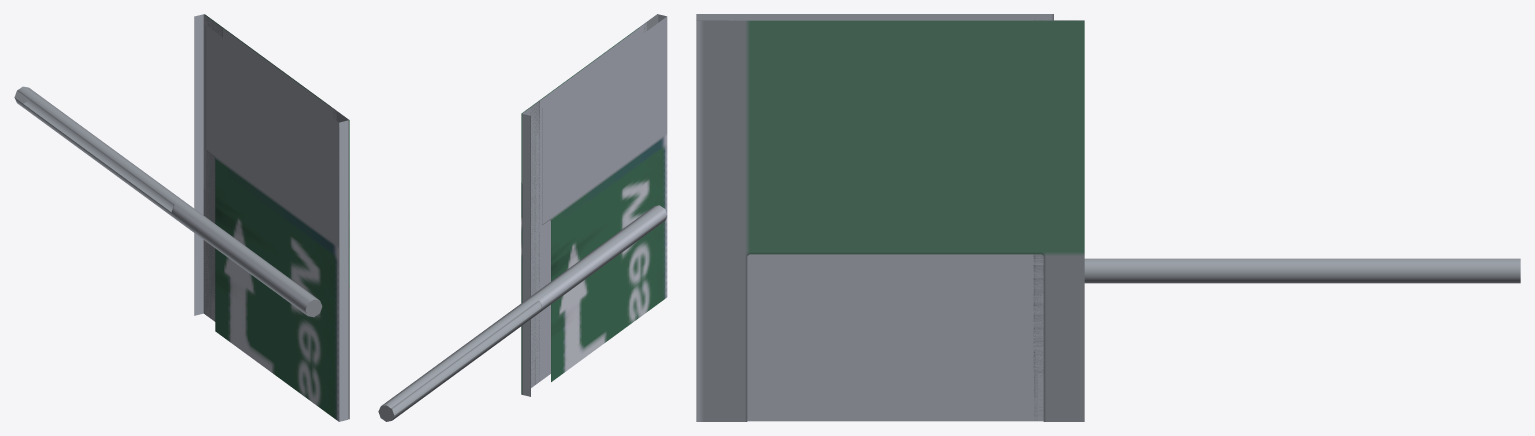
File: section-1.obj
3 views of the same model, side by side, from view 1: azimuth 30°, elevation 25°; view 2: azimuth 150°, elevation 25°; view 3: azimuth 270°, elevation 25° (orthographic). The views are drawn at different scales.
Size of the model in its own units: 0.129 by 1.35 by 2.5.
